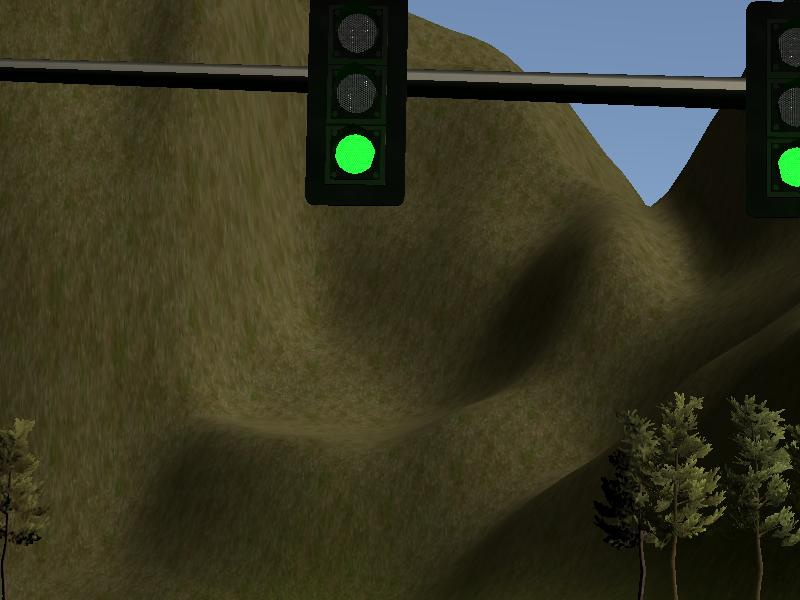green_light: (312, 2, 405, 205), (750, 4, 800, 213)
